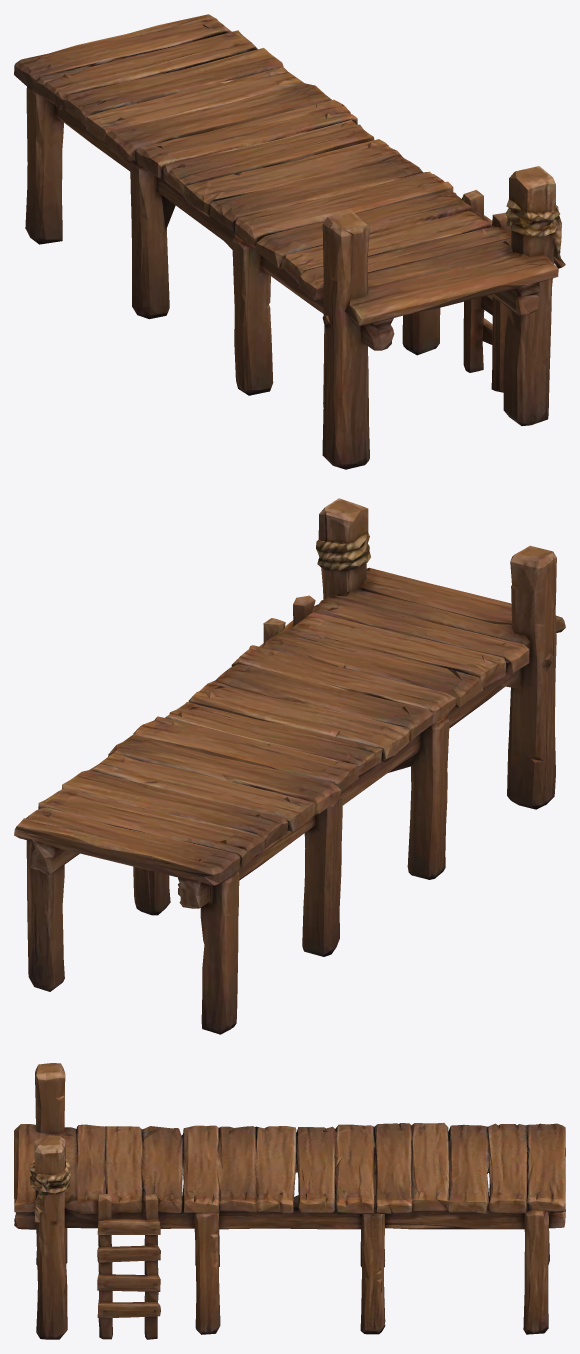
File: oc_dock.glb
3 renders of one model, top to bottom at view 1: azimuth 30°, elevation 25°; view 2: azimuth 150°, elevation 25°; view 3: azimuth 270°, elevation 25°, orthographic. The views are drawn at different scales.
Parts seen in each view (by area): view 1: W_dock_small; view 2: W_dock_small; view 3: W_dock_small.
Part boxes in pixels (x1,y1,x2,y2): W_dock_small: [14, 14, 565, 469]; W_dock_small: [14, 498, 565, 1034]; W_dock_small: [14, 1063, 565, 1339].
Bounding box in the file's own units: 2.31 × 2.34 × 6.
1 material, 1 textured.
